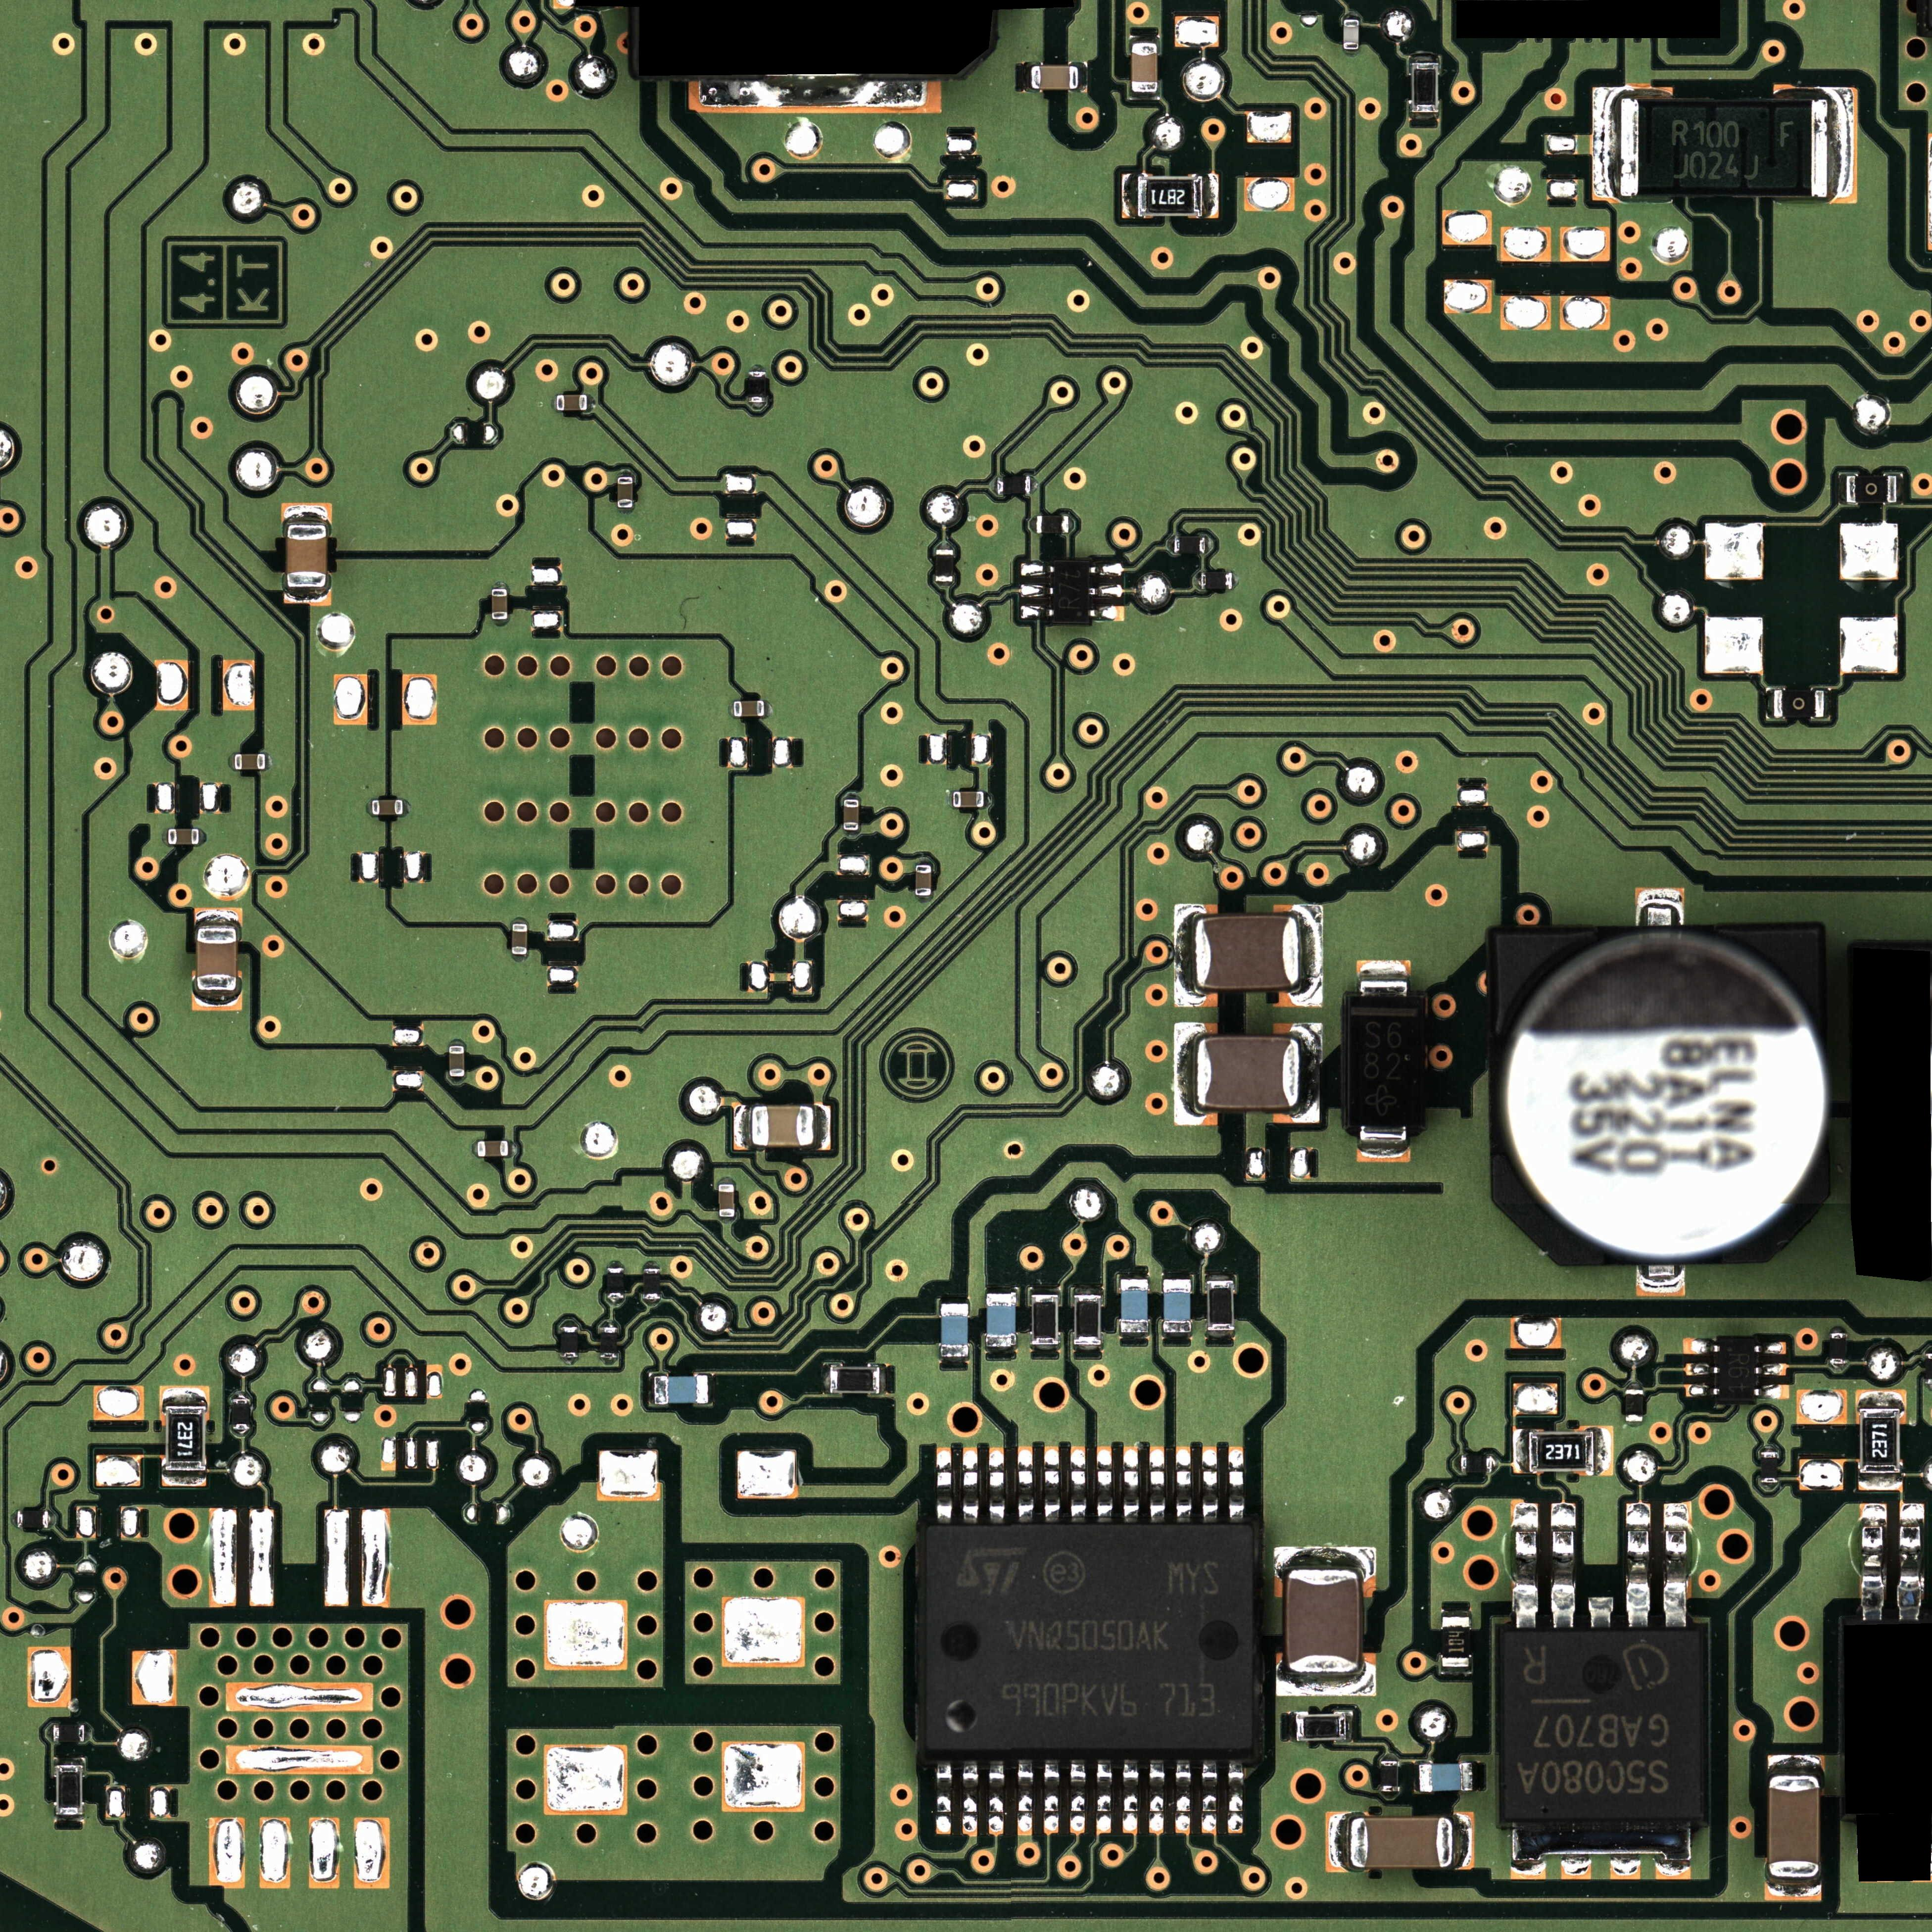Package: (1490, 927, 1831, 1263), (927, 1525, 1254, 1753), (1504, 1631, 1702, 1817), (1622, 97, 1828, 198), (1348, 996, 1421, 1123), (1284, 1569, 1362, 1672), (1194, 915, 1299, 989), (1196, 1037, 1299, 1109), (1767, 1776, 1821, 1877), (1350, 1817, 1453, 1868), (1529, 1431, 1594, 1474), (1138, 177, 1203, 218), (165, 1407, 205, 1470), (287, 525, 327, 587), (196, 929, 237, 991), (752, 1106, 814, 1146), (1861, 1408, 1900, 1472), (1720, 1339, 1755, 1401), (1054, 561, 1088, 623), (1419, 1764, 1472, 1792), (1120, 1279, 1148, 1332), (655, 1376, 708, 1403), (941, 1304, 968, 1357), (1164, 1279, 1191, 1332), (1775, 690, 1824, 718), (1442, 1617, 1470, 1667), (1847, 476, 1897, 502), (1412, 64, 1438, 113), (1074, 1295, 1100, 1345), (1207, 1281, 1233, 1330), (1297, 1714, 1346, 1741), (1031, 1295, 1058, 1345), (57, 1766, 81, 1815), (830, 1368, 879, 1392), (1132, 42, 1157, 92), (1031, 65, 1077, 88), (934, 550, 954, 582), (232, 1398, 249, 1430), (600, 1327, 617, 1359), (1037, 515, 1069, 533), (1626, 1389, 1644, 1421), (1380, 1760, 1398, 1792), (1760, 1451, 1778, 1483), (1829, 1332, 1847, 1364), (748, 372, 766, 402), (561, 1327, 579, 1357), (18, 1511, 48, 1529), (607, 1269, 625, 1299), (1201, 571, 1231, 589), (1175, 536, 1205, 554), (1461, 1454, 1491, 1472), (53, 1725, 85, 1741), (449, 1046, 465, 1077), (734, 701, 764, 717), (511, 924, 527, 954), (168, 828, 198, 844), (235, 754, 265, 770), (915, 865, 931, 895), (557, 395, 587, 410), (492, 589, 508, 619), (954, 791, 984, 807), (372, 800, 402, 816), (844, 800, 860, 830), (617, 478, 633, 508), (478, 1141, 508, 1157), (644, 1269, 660, 1299), (1343, 19, 1359, 50)
Solder: (1509, 1819, 1691, 1879), (697, 80, 929, 113), (1513, 1502, 1539, 1629), (1550, 1502, 1576, 1629), (1663, 1502, 1690, 1629), (1592, 88, 1621, 200), (1626, 1502, 1651, 1628), (1900, 1504, 1925, 1621), (1861, 1504, 1886, 1619), (1829, 88, 1852, 203), (1299, 904, 1323, 1007), (1274, 1546, 1376, 1569), (1276, 1674, 1376, 1697), (1175, 1023, 1196, 1125), (1300, 1024, 1322, 1123), (1175, 904, 1194, 1008), (1357, 961, 1412, 996), (1357, 1125, 1410, 1161), (1635, 886, 1684, 924), (1637, 1265, 1684, 1297), (1327, 1812, 1350, 1872), (1201, 1445, 1219, 1522), (1767, 1877, 1822, 1900), (1175, 1445, 1191, 1522), (1097, 1445, 1113, 1522), (1070, 1445, 1086, 1522), (1044, 1445, 1060, 1522), (1453, 1813, 1474, 1870), (1228, 1447, 1244, 1522), (1150, 1445, 1166, 1520), (1123, 1445, 1139, 1520), (989, 1447, 1005, 1522), (1017, 1447, 1033, 1522), (964, 1447, 980, 1522), (938, 1447, 954, 1522), (1069, 1760, 1085, 1835), (1042, 1760, 1058, 1835), (1201, 1759, 1217, 1831), (1175, 1760, 1191, 1833), (1148, 1760, 1164, 1833), (1122, 1760, 1138, 1833), (1095, 1760, 1111, 1833), (1017, 1762, 1033, 1835), (989, 1762, 1005, 1835), (962, 1762, 978, 1835), (936, 1762, 952, 1835), (1767, 1755, 1824, 1775), (281, 502, 331, 524), (1228, 1759, 1242, 1833), (191, 991, 242, 1010), (1856, 1389, 1907, 1408), (1594, 1426, 1614, 1476), (195, 908, 241, 927), (283, 587, 331, 605), (161, 1387, 209, 1405), (734, 1104, 752, 1150), (1589, 1596, 1614, 1628), (814, 1104, 830, 1150), (1858, 1474, 1904, 1490), (1203, 173, 1219, 218), (1122, 173, 1138, 218), (1513, 1430, 1529, 1474), (161, 1472, 207, 1486), (1088, 605, 1123, 621), (1683, 1339, 1720, 1353), (1753, 1385, 1790, 1399), (1684, 1384, 1720, 1398), (1021, 605, 1054, 619), (1021, 584, 1054, 598), (1755, 1362, 1787, 1376), (1684, 1362, 1720, 1375), (1090, 563, 1123, 575), (1021, 563, 1054, 575), (1755, 1343, 1787, 1355), (1090, 586, 1123, 596), (1838, 472, 1847, 506), (1129, 92, 1161, 101), (1072, 1286, 1104, 1295), (1205, 1272, 1237, 1281), (1440, 1667, 1472, 1675), (55, 1757, 85, 1766), (939, 1295, 970, 1304), (1410, 53, 1440, 62), (1205, 1330, 1235, 1339), (1766, 688, 1775, 718), (1077, 62, 1086, 92), (1442, 1608, 1470, 1617), (1129, 35, 1161, 42), (1408, 113, 1440, 120), (1118, 1272, 1150, 1279), (1030, 1286, 1062, 1293), (1161, 1332, 1192, 1339), (1118, 1332, 1150, 1339), (1290, 1711, 1297, 1743), (1897, 472, 1904, 504), (1024, 60, 1031, 92), (879, 1364, 886, 1394), (939, 1357, 970, 1364), (823, 1364, 830, 1394), (648, 1375, 655, 1405), (708, 1375, 715, 1405), (1072, 1345, 1102, 1352), (1162, 1272, 1192, 1279), (1030, 1345, 1060, 1352), (1412, 1762, 1419, 1792), (1346, 1711, 1353, 1741), (1824, 688, 1831, 718), (55, 1815, 83, 1822), (1472, 1762, 1479, 1790), (198, 828, 207, 846), (587, 395, 596, 412), (915, 895, 932, 904), (842, 830, 860, 839), (764, 701, 773, 718), (945, 791, 954, 809), (226, 754, 235, 770), (449, 1076, 465, 1085), (548, 395, 557, 410), (1028, 517, 1037, 533), (1231, 573, 1240, 589), (1453, 1456, 1461, 1472), (600, 1320, 619, 1327), (1380, 1792, 1399, 1799), (1624, 1421, 1644, 1428), (161, 828, 168, 846), (232, 1430, 249, 1437), (232, 1392, 249, 1399), (48, 1511, 55, 1529), (748, 364, 766, 372), (748, 403, 766, 410), (915, 858, 932, 865), (936, 543, 954, 550), (511, 955, 529, 962), (936, 582, 954, 589), (607, 1299, 625, 1306), (561, 1320, 579, 1327), (607, 1261, 625, 1269), (600, 1359, 617, 1366), (561, 1357, 579, 1364), (642, 1299, 660, 1306), (1343, 12, 1361, 19), (1205, 536, 1212, 554), (1168, 536, 1175, 554), (984, 791, 991, 809), (1380, 1753, 1398, 1760), (1626, 1382, 1644, 1389), (1829, 1364, 1847, 1371), (1760, 1445, 1778, 1453), (1829, 1325, 1847, 1332), (1760, 1483, 1778, 1490), (492, 582, 508, 589), (265, 754, 272, 770), (492, 619, 508, 626), (403, 800, 410, 816), (364, 800, 372, 816), (449, 1039, 465, 1046), (471, 1141, 478, 1157), (46, 1725, 53, 1741), (11, 1511, 18, 1527), (617, 469, 633, 476), (511, 916, 527, 924), (844, 793, 860, 800), (727, 701, 734, 717), (617, 508, 633, 515), (644, 1261, 660, 1269), (508, 1141, 515, 1157), (1343, 50, 1359, 57), (1069, 517, 1076, 533), (1194, 573, 1201, 589), (1491, 1456, 1499, 1472), (85, 1725, 90, 1741)
